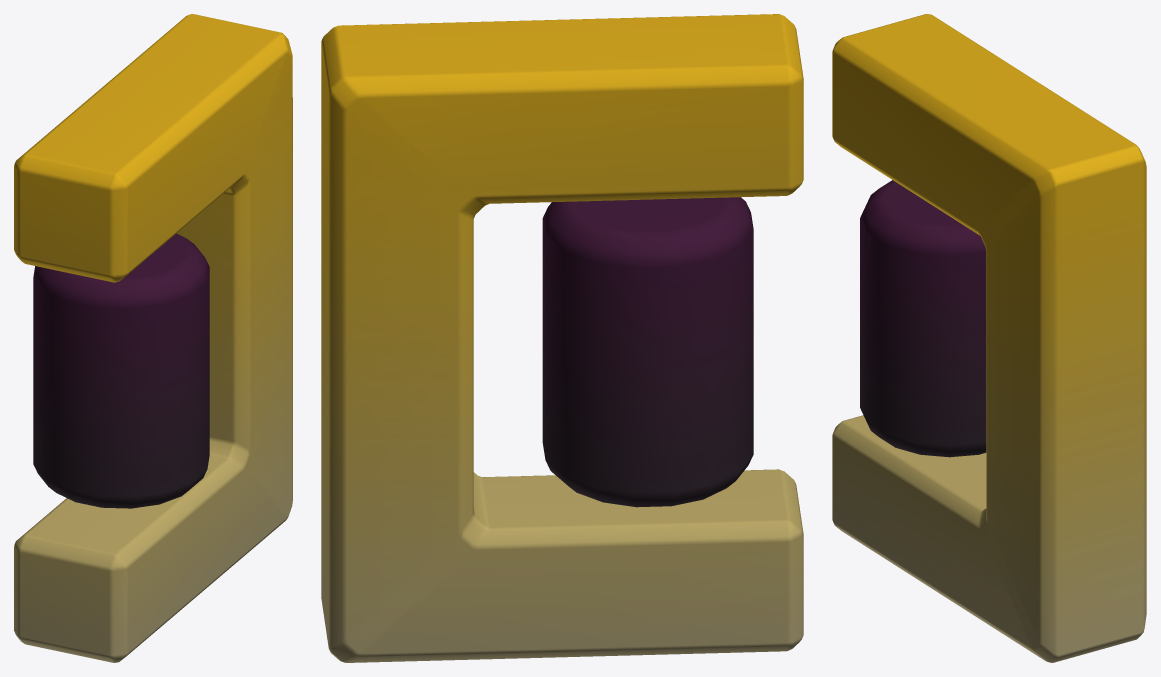
Rendered from Bit04.fbx.
3 renders of one model, left to right at view 1: azimuth 30°, elevation 25°; view 2: azimuth 150°, elevation 25°; view 3: azimuth 270°, elevation 25°, orthographic. The views are drawn at different scales.
Parts seen in each view (by area): view 1: Frame, pCylinder1; view 2: Frame, pCylinder1; view 3: Frame, pCylinder1.
Boxes of the visible parts, x1=… form: Frame: x1=14, y1=14, x2=292, y2=662; pCylinder1: x1=33, y1=233, x2=209, y2=508; Frame: x1=321, y1=14, x2=803, y2=662; pCylinder1: x1=542, y1=197, x2=753, y2=507; Frame: x1=832, y1=14, x2=1146, y2=662; pCylinder1: x1=860, y1=180, x2=986, y2=457.
Bounding box in the file's own units: 1.53 × 2.13 × 1.23.
